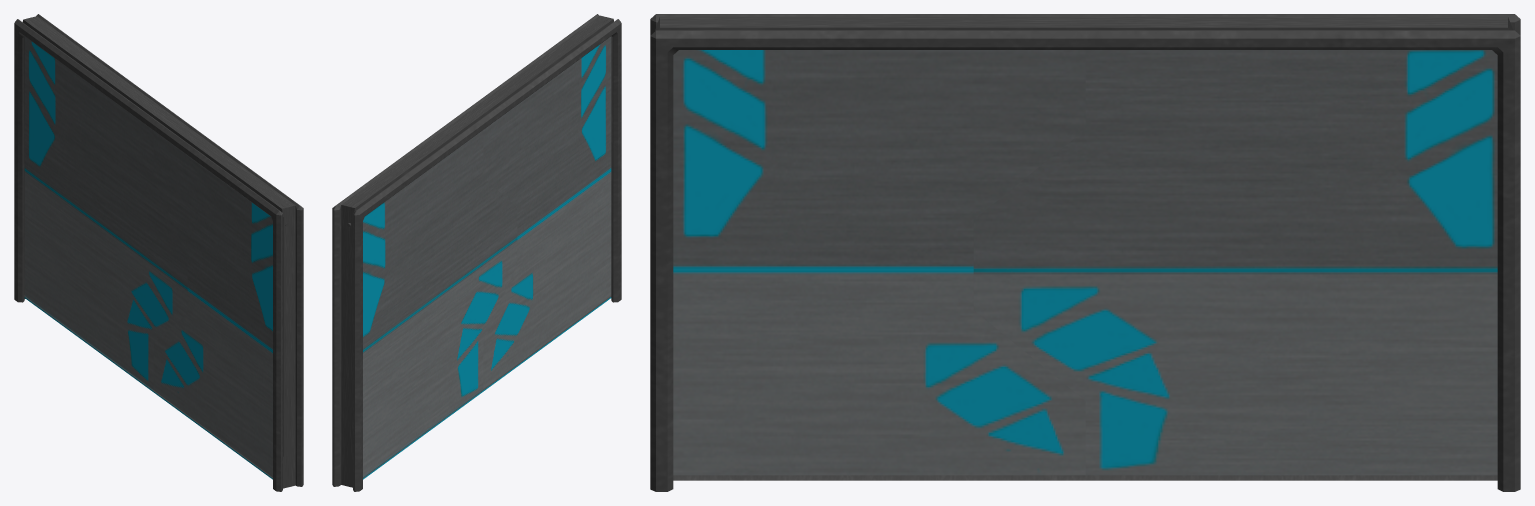
The model's file is Dooridle_opened.FBX.
3 renders of one model, left to right at view 1: azimuth 30°, elevation 25°; view 2: azimuth 150°, elevation 25°; view 3: azimuth 270°, elevation 25°, orthographic. The views are drawn at different scales.
Visible parts, largest first — view 1: door, Frame; view 2: door, Frame; view 3: door, Frame.
Part boxes in pixels (x1,y1,x2,y2): door: (24,36,272,479); Frame: (14,14,303,491); door: (363,36,611,479); Frame: (332,14,621,491); door: (673,50,1497,475); Frame: (650,14,1520,491).
Bounding box in the file's own units: 9.56 × 93.72 × 161.
1 material, 1 textured.
